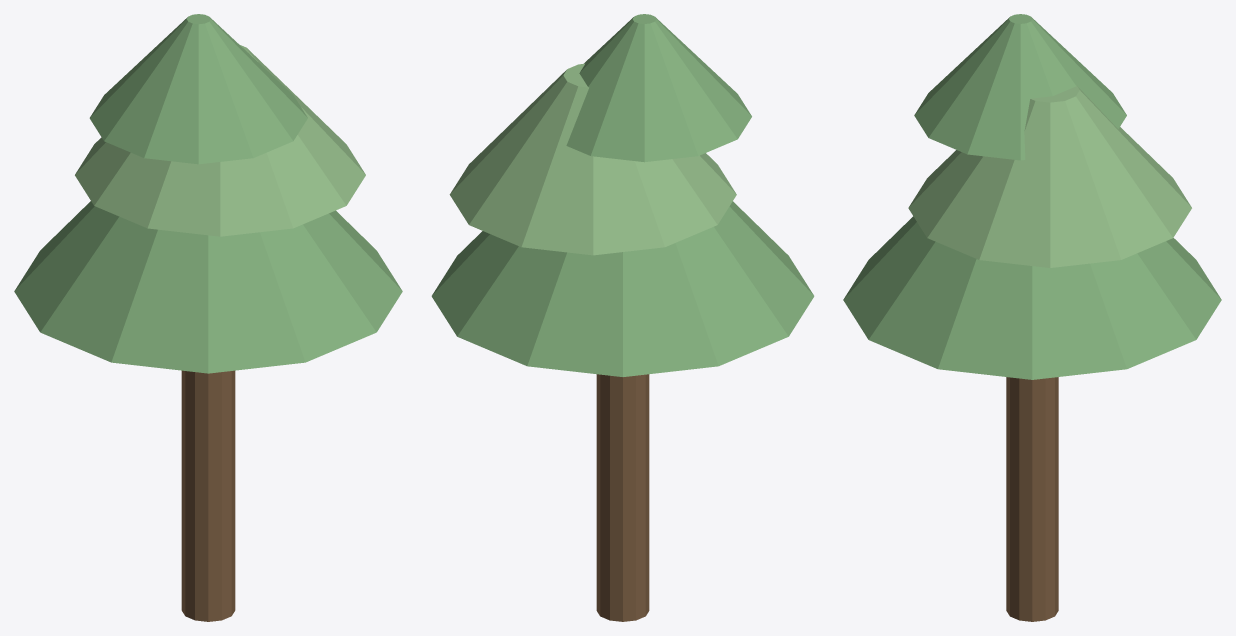
Rendered from tree.glb.
3 renders of one model, left to right at view 1: azimuth 30°, elevation 25°; view 2: azimuth 150°, elevation 25°; view 3: azimuth 270°, elevation 25°, orthographic. The views are drawn at different scales.
Parts seen in each view (by area): view 1: tree; view 2: tree; view 3: tree.
Boxes of the visible parts, left/top/right/bottom form: tree: left=14, top=14, right=402, bottom=621; tree: left=431, top=14, right=814, bottom=621; tree: left=843, top=14, right=1221, bottom=621.
Bounding box in the file's own units: 3.2 × 5.45 × 3.2.
